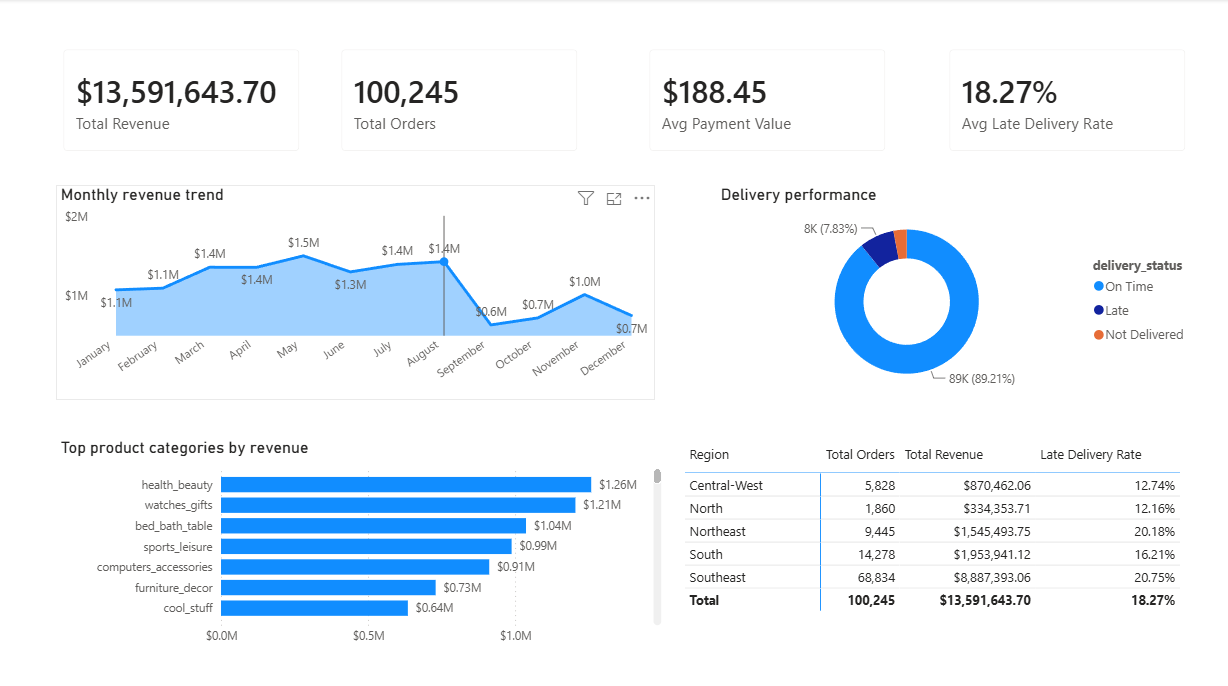

Layout of this report page (visuals, bound fields, positions):
{"tool":"powerbi","page":{"name":"Dashboard","canvas":[1280,720],"ordinal":0},"visuals":[{"type":"cardVisual","fields":{"Data":["Sum(olist_golden_table.total_revenue)"]},"box":[48.6,35,280.1,140.1],"z":0},{"type":"cardVisual","fields":{"Data":["Sum(olist_golden_table.total_orders)"]},"box":[338.5,35,280.1,140.1],"z":1000},{"type":"cardVisual","fields":{"Data":["Avg(olist_golden_table.average_payment_value)"]},"box":[659.5,35,280.1,140.1],"z":2000},{"type":"cardVisual","fields":{"Data":["Avg(olist_golden_table.late_delivery_rate)"]},"box":[972.5,35.4,280.4,140.7],"z":2001},{"type":"lineChart","title":"Monthly revenue trend","fields":{"Y":["Sum(olist_golden_table.total_revenue)"],"Category":["olist_golden_table.year_month.Variation.Date Hierarchy.Month"]},"box":[58.4,193.9,624.4,224.1],"z":2002},{"type":"donutChart","title":"Delivery performance","fields":{"Y":["Sum(olist_golden_table.total_orders)"],"Category":["olist_golden_table.delivery_status"]},"box":[746.3,193.9,506.6,224.1],"z":2003},{"type":"barChart","title":"Top product categories by revenue","fields":{"Y":["Sum(olist_golden_table.total_revenue)"],"Category":["olist_golden_table.product_category_name_english"]},"box":[58.4,457.6,635.8,224.1],"z":2004},{"type":"pivotTable","fields":{"Rows":["olist_golden_table.customer_region"],"Values":["Sum(olist_golden_table.total_orders)","Sum(olist_golden_table.total_revenue)","Avg(olist_golden_table.late_delivery_rate)"]},"box":[708.8,457.6,544.1,224.1],"z":2005}]}

Visuals, with their boxes in screenshot pixels (x1, y1, x2, y2), scaled from the page's 1280x720 canvas onto the 1228x686 screenshot:
cardVisual - Sum(olist_golden_table.total_revenue): <region>47, 33, 315, 167</region>
cardVisual - Sum(olist_golden_table.total_orders): <region>325, 33, 593, 167</region>
cardVisual - Avg(olist_golden_table.average_payment_value): <region>633, 33, 901, 167</region>
cardVisual - Avg(olist_golden_table.late_delivery_rate): <region>933, 34, 1202, 168</region>
"Monthly revenue trend" lineChart: <region>56, 185, 655, 398</region>
"Delivery performance" donutChart: <region>716, 185, 1202, 398</region>
"Top product categories by revenue" barChart: <region>56, 436, 666, 650</region>
pivotTable - olist_golden_table.customer_region x Sum(olist_golden_table.total_orders): <region>680, 436, 1202, 650</region>
